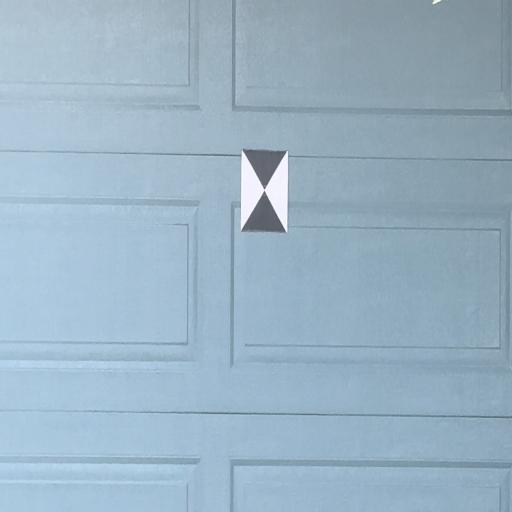target: (242, 148, 288, 232)
